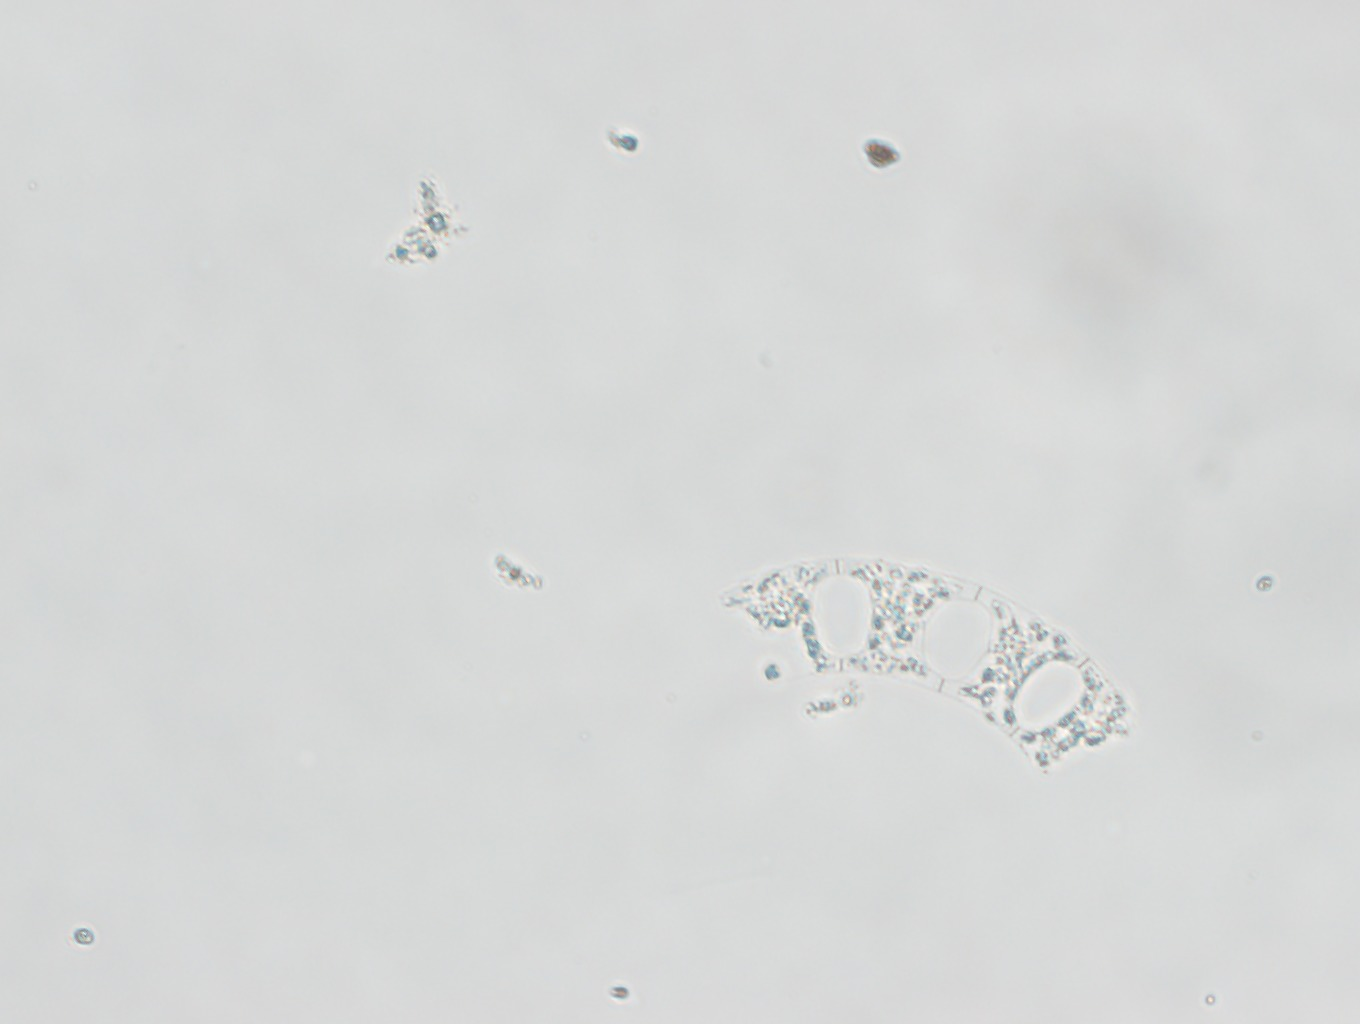eucampia: (716, 554, 1142, 781)
